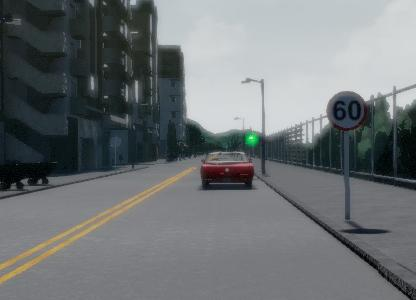Speed_60: (324, 90, 369, 132)
